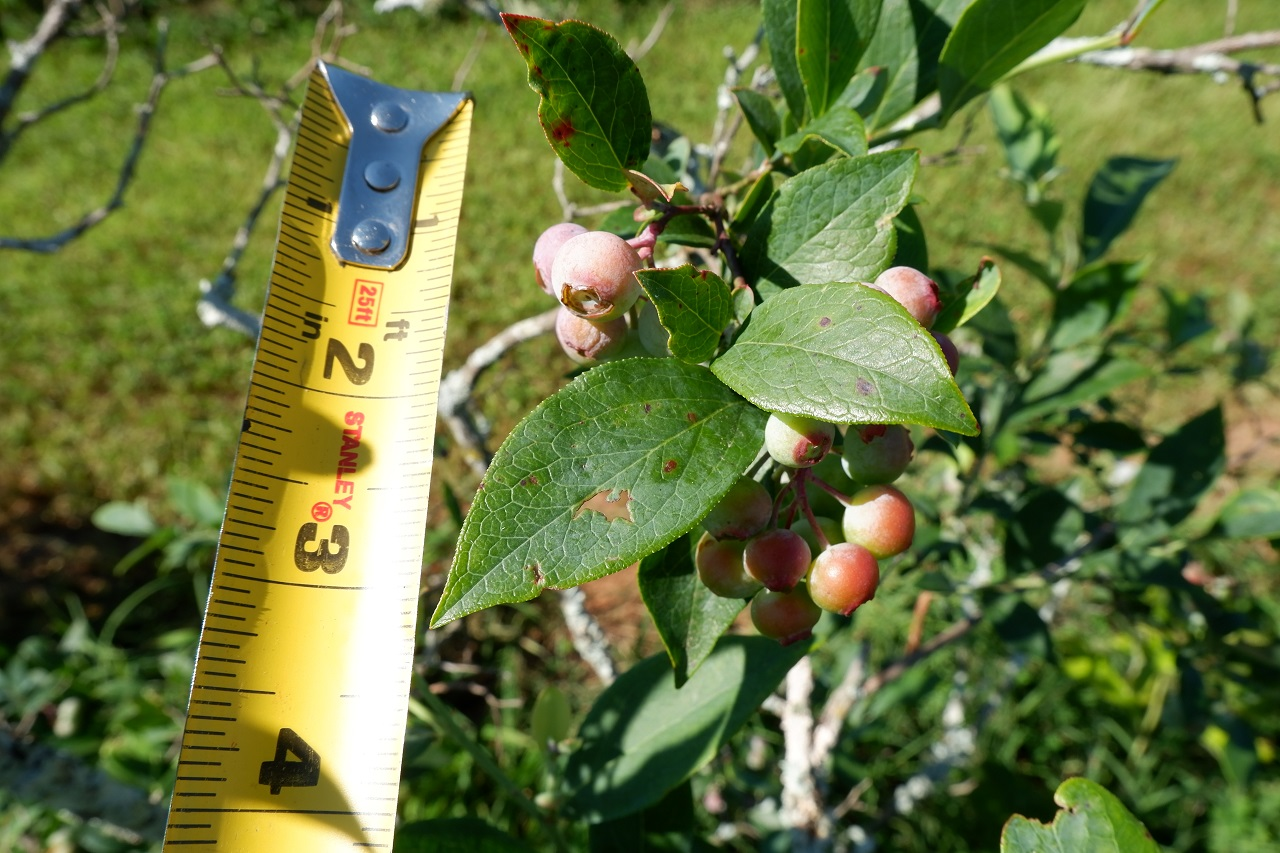Immature: (552, 230, 645, 322), (806, 542, 880, 617), (842, 485, 914, 560), (751, 573, 822, 647), (700, 476, 772, 542), (695, 531, 764, 599), (555, 306, 628, 369), (742, 529, 812, 594), (873, 267, 943, 331), (841, 424, 914, 485), (533, 222, 588, 298), (805, 454, 865, 520), (765, 413, 835, 469), (791, 515, 846, 560), (638, 298, 675, 358), (605, 328, 655, 362), (929, 331, 959, 377), (859, 282, 895, 299)
